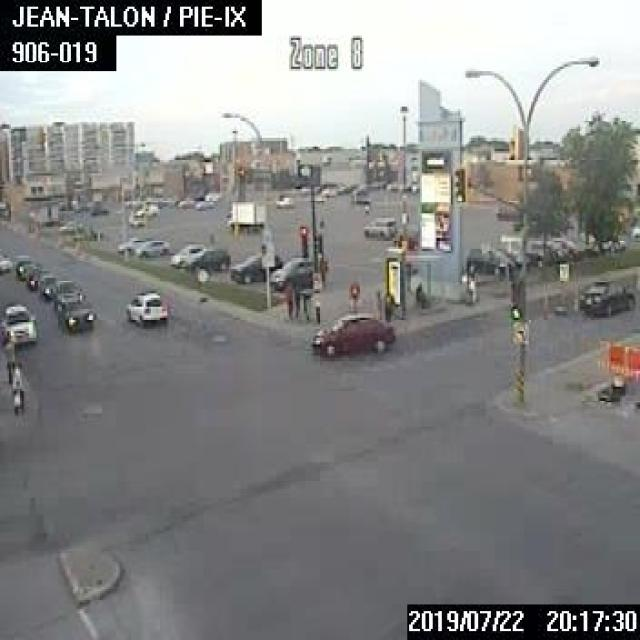construction: (596, 336, 638, 402)
pedestrian: (12, 361, 26, 413), (461, 261, 475, 303), (3, 336, 14, 382), (380, 284, 393, 322), (347, 281, 360, 310), (283, 278, 292, 316), (413, 279, 424, 308), (292, 281, 300, 317), (362, 201, 368, 214)
vehicle: (310, 311, 392, 355), (580, 276, 636, 318), (0, 297, 36, 344), (228, 251, 281, 281), (124, 289, 166, 324), (267, 255, 311, 288), (465, 245, 512, 274), (55, 299, 94, 332), (50, 276, 84, 309), (184, 246, 228, 270), (226, 200, 264, 227), (168, 242, 206, 265), (522, 239, 552, 265), (549, 235, 582, 257), (361, 215, 393, 237), (38, 274, 62, 299), (134, 238, 167, 255), (542, 239, 566, 262), (25, 266, 48, 288), (13, 254, 35, 277), (117, 235, 143, 254), (598, 235, 624, 251), (507, 250, 528, 266), (351, 186, 369, 201), (136, 203, 158, 214), (273, 194, 291, 207), (0, 252, 11, 272), (88, 202, 106, 214), (194, 199, 213, 210), (127, 212, 144, 224), (175, 196, 193, 207), (628, 224, 638, 240), (320, 184, 333, 194)
